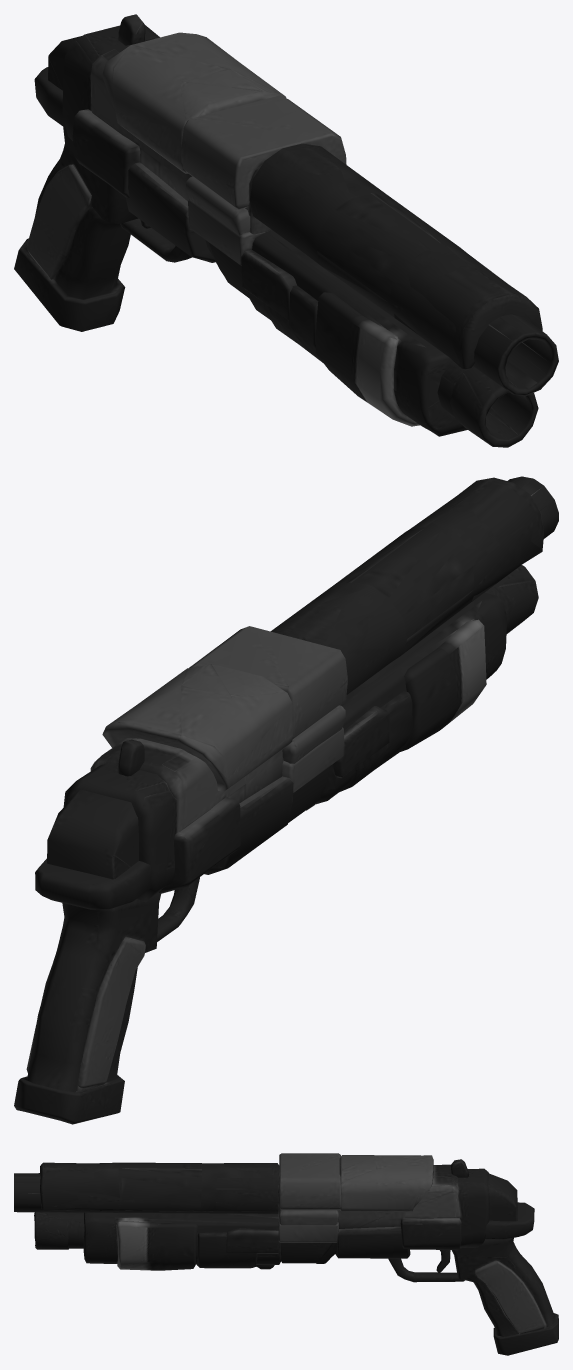
The model's file is brakk_gun.glb.
3 views of the same model, one above another, from view 1: azimuth 30°, elevation 25°; view 2: azimuth 150°, elevation 25°; view 3: azimuth 270°, elevation 25° (orthographic). The views are drawn at different scales.
Size of the model in its own units: 0.1337 by 0.3651 by 0.95.
1 material, 1 textured.
